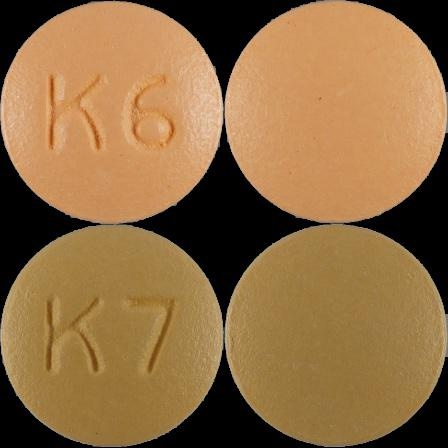10702-006: (0, 0, 224, 224)
